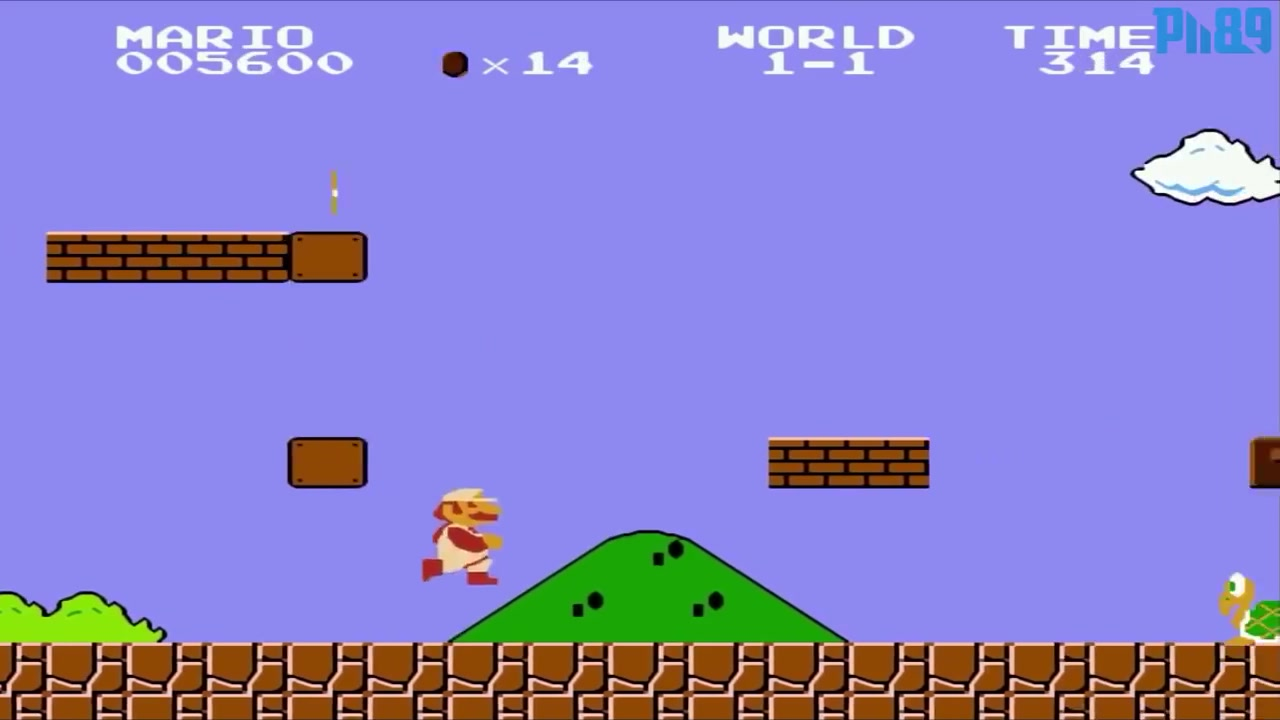mario: (420, 480, 501, 593)
